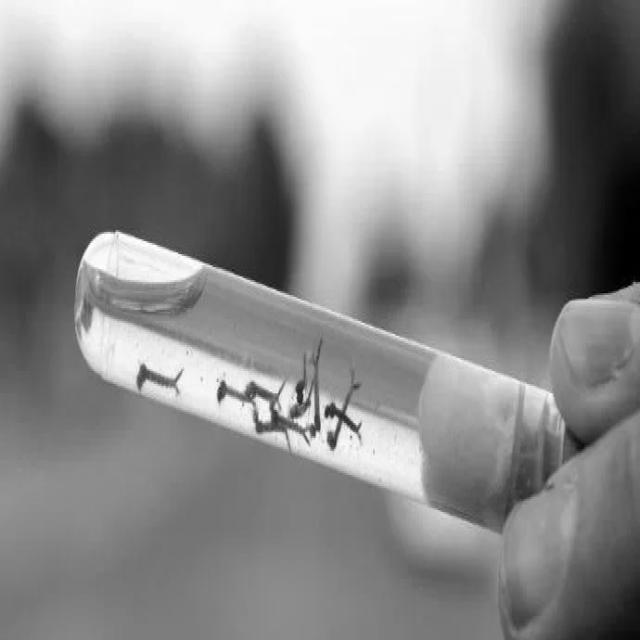larvas: (327, 377, 364, 453), (136, 357, 182, 396), (327, 401, 362, 434), (273, 411, 308, 436), (312, 350, 322, 429), (248, 383, 281, 401), (216, 384, 249, 402), (295, 361, 305, 404), (288, 399, 310, 418), (256, 419, 278, 433)
